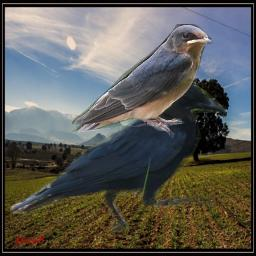Crow: (10, 81, 226, 235)
Swallow: (72, 24, 213, 138)
